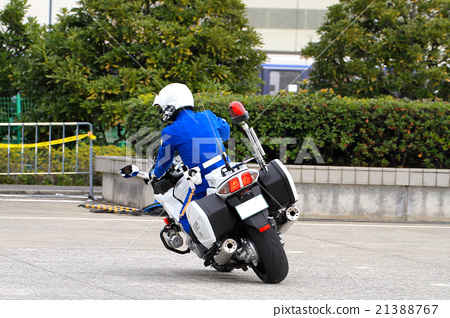helmet: (149, 80, 193, 118)
